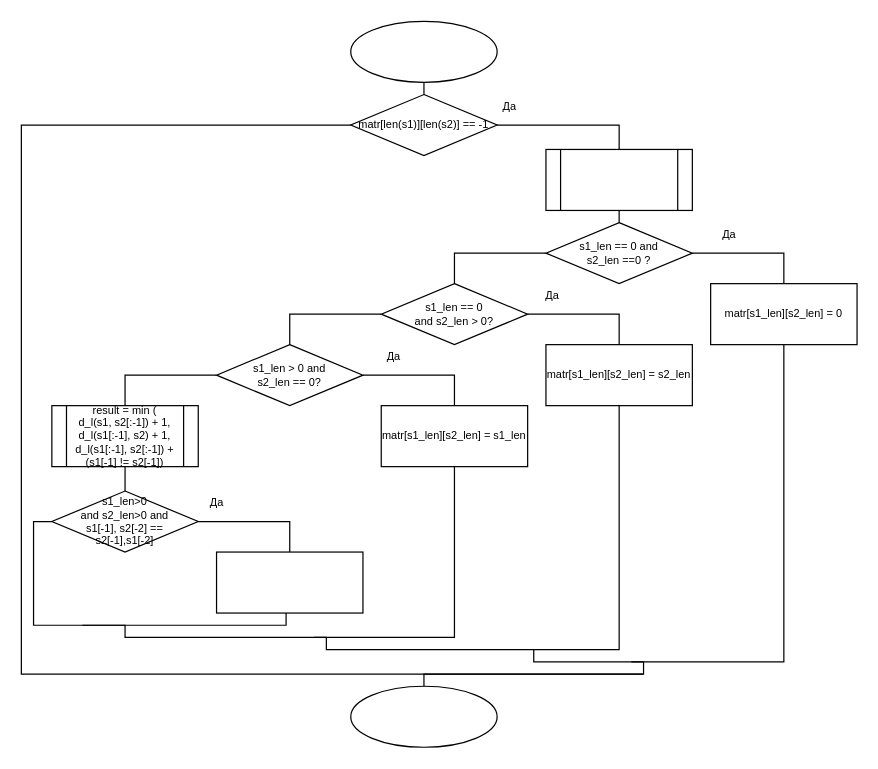
The diagram is 878 pixels wide and 769 high, and some of its shapes have lost their labels. The shapes that lost their labels are listed below. From the top down, each one's centre as x and y in pixels, then its label:
At [423,51]: "string: s1, s2 int()[len(s1) + 1] [len(s2) + 1]: matr".
At [618,179]: "s1_len = len(s1) s2_len = len(s2)".
At [289,582]: "matr[s1_len][s2_len] = min( result, d_l(s1[:-2], s2[:-2]) + 1)".
At [423,716]: "matr[s1_len][s2_len]".
